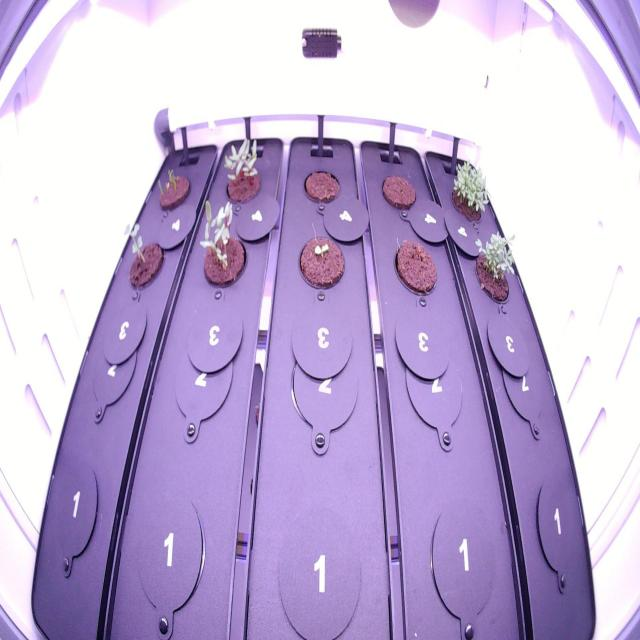empty_pod: (276, 504, 366, 632), (426, 494, 504, 628), (131, 491, 212, 614), (530, 473, 590, 601), (284, 342, 361, 436), (46, 458, 108, 565), (400, 342, 469, 435), (172, 326, 238, 418), (499, 343, 555, 431), (88, 330, 139, 410)
germination: (195, 195, 252, 294), (470, 220, 523, 310), (212, 129, 269, 211), (118, 217, 170, 305), (293, 227, 353, 300), (443, 152, 497, 226), (152, 157, 195, 215)
pod: (386, 231, 443, 302), (296, 160, 346, 212), (377, 166, 423, 216)
